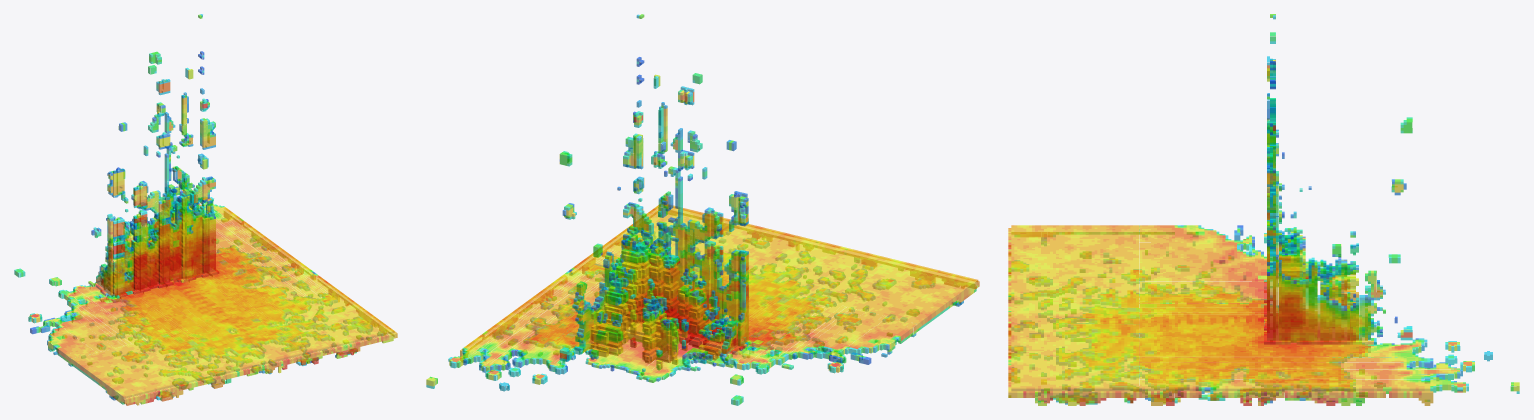
Rendered from tower-block_out.glb.
3 renders of one model, left to right at view 1: azimuth 30°, elevation 25°; view 2: azimuth 150°, elevation 25°; view 3: azimuth 270°, elevation 25°, orthographic. The views are drawn at different scales.
Parts seen in each view (by area): view 1: chunk:0, chunk:1, chunk:2, chunk:3; view 2: chunk:0, chunk:1, chunk:2; view 3: chunk:0, chunk:1, chunk:2, chunk:3.
Part boxes in pixels (x1,y1,x2,y2): chunk:0: (14, 14, 337, 366); chunk:1: (72, 294, 391, 405); chunk:2: (207, 197, 343, 302); chunk:3: (339, 293, 397, 340); chunk:0: (426, 14, 917, 405); chunk:1: (607, 204, 979, 330); chunk:2: (448, 247, 605, 365); chunk:0: (1139, 14, 1519, 402); chunk:1: (1008, 225, 1139, 402); chunk:2: (1139, 386, 1465, 405); chunk:3: (1008, 386, 1139, 405).
Bounding box in the file's own units: 65.5 × 62.5 × 86.
Materials: 5 (4 with a texture image).
